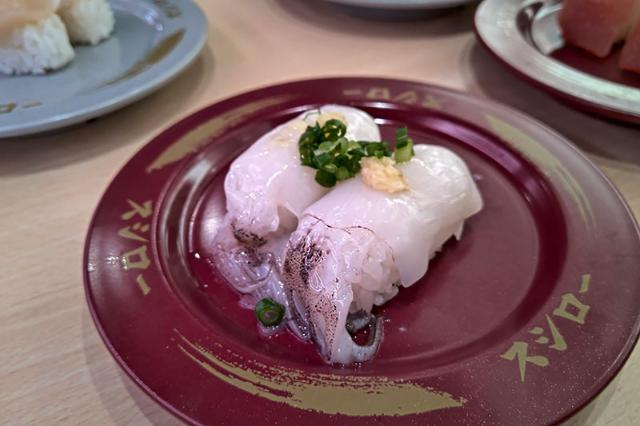janred: (107, 102, 602, 426), (458, 2, 640, 132)
janwhite: (2, 12, 213, 119)
